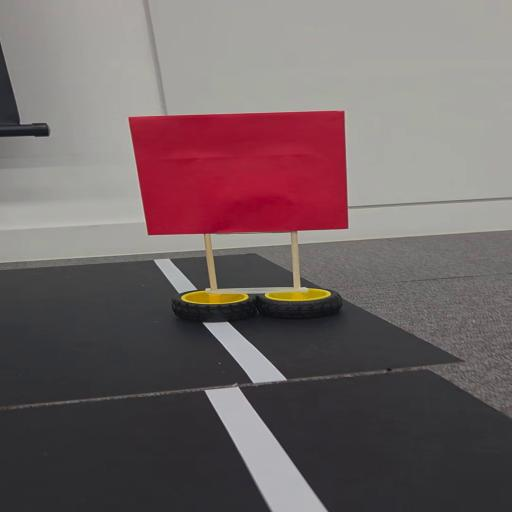Sign_A: (116, 108, 388, 325)
